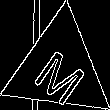M_NE: (28, 35, 90, 102)
